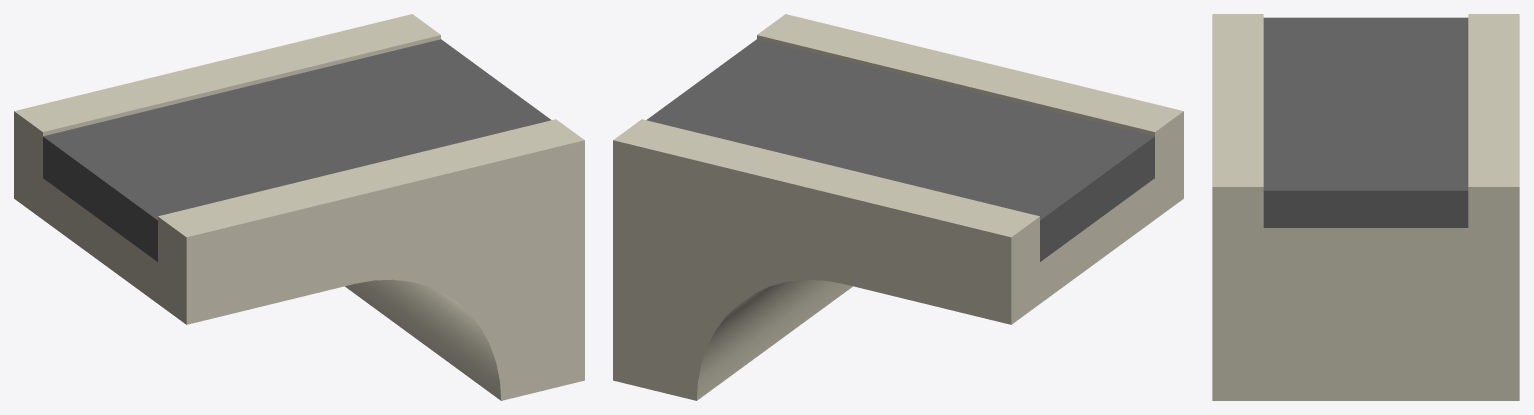
Rendered from roadTile_208.obj.
3 views of the same model, side by side, from view 1: azimuth 30°, elevation 25°; view 2: azimuth 150°, elevation 25°; view 3: azimuth 270°, elevation 25° (orthographic). The views are drawn at different scales.
Parts seen in each view (by area): view 1: roadTile_208; view 2: roadTile_208; view 3: roadTile_208.
Part boxes in pixels (bbox=[...]): roadTile_208: bbox=[14, 14, 584, 400]; roadTile_208: bbox=[613, 14, 1183, 400]; roadTile_208: bbox=[1212, 14, 1519, 400].
Bounding box in the file's own units: 3 × 1.73 × 2.25.
